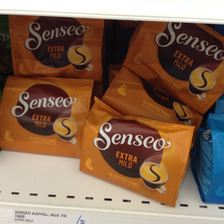coffee: (78, 96, 195, 208), (123, 21, 224, 115), (1, 75, 93, 158), (8, 14, 103, 78)
